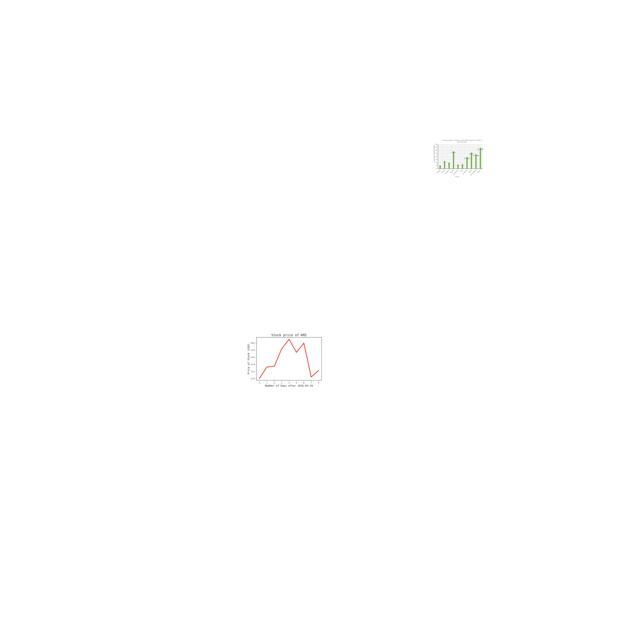Graph: (246, 327, 330, 390), (433, 139, 484, 178)
